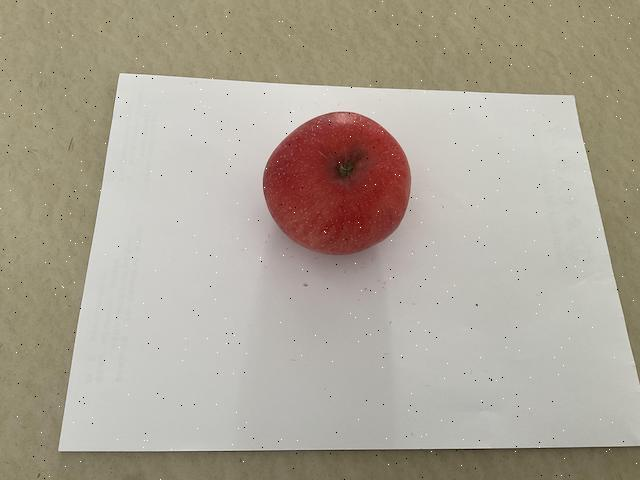apple: (259, 103, 415, 260)
